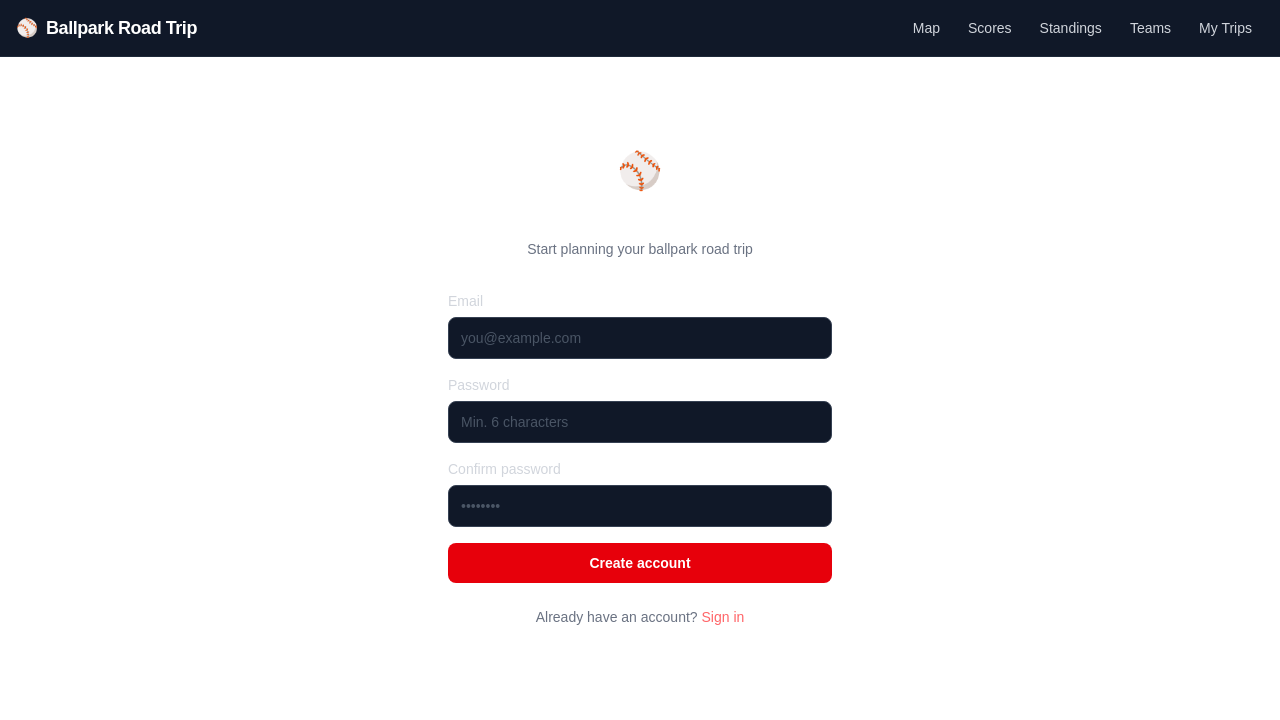
Test: Signup › shows error when passwords do not match
The width and height of the screenshot is (1280, 720).
Type "test@example.com" into the field with test id "signup-email" at x=640, y=338, box [448,317,832,359]
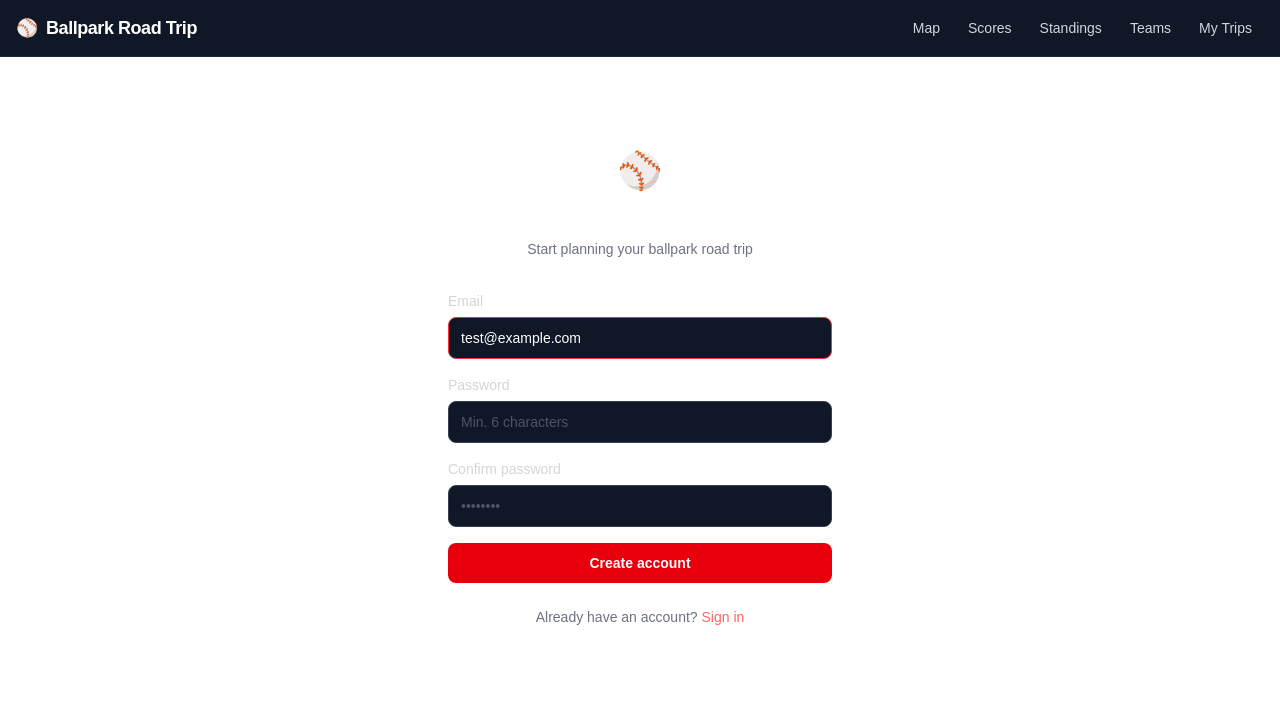
Type "password123" into the password field with test id "signup-password" at x=640, y=422, box [448,401,832,443]
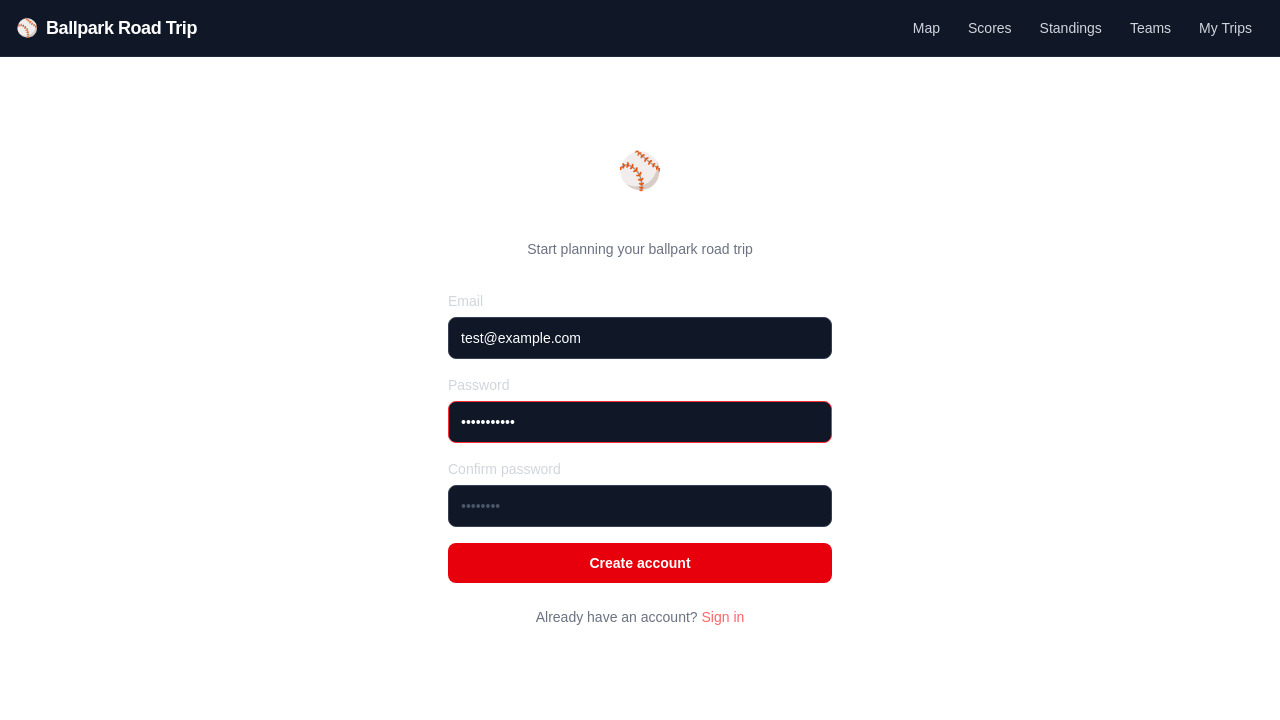
Type "different123" into the password field with test id "signup-confirm" at x=640, y=506, box [448,485,832,527]
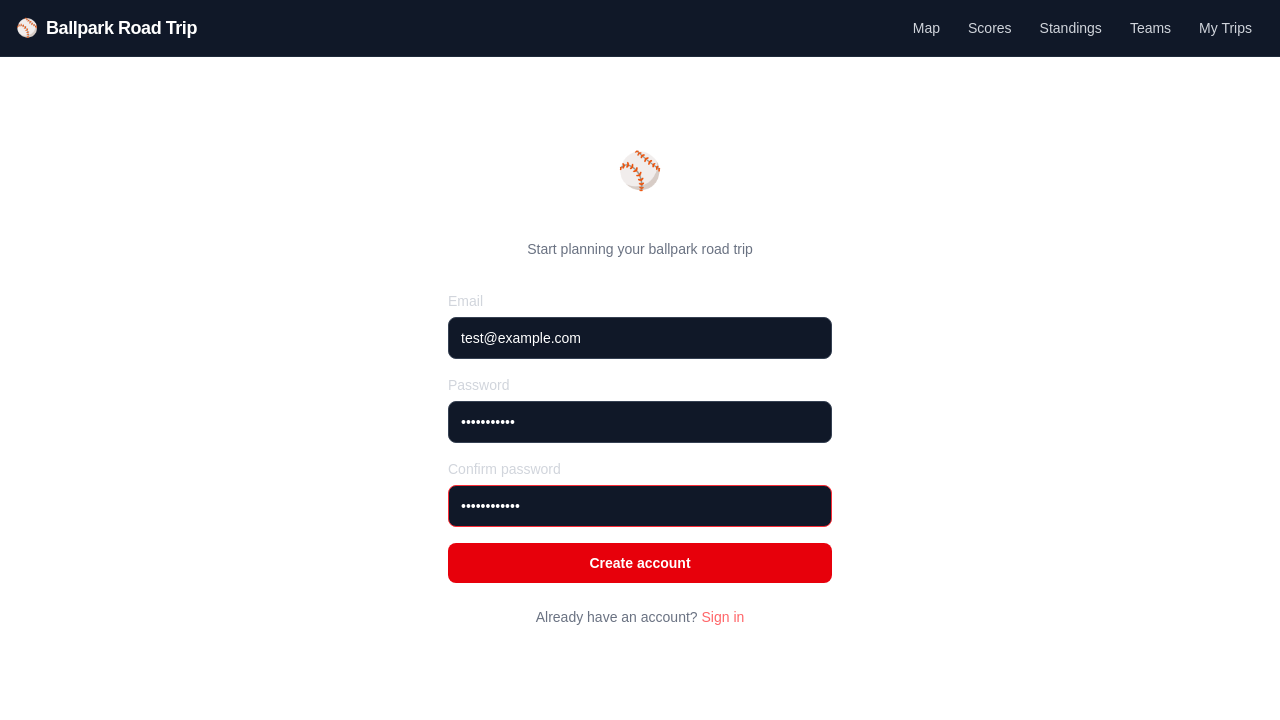
Click the button with test id "signup-submit" at x=640, y=563, box [448,543,832,583]
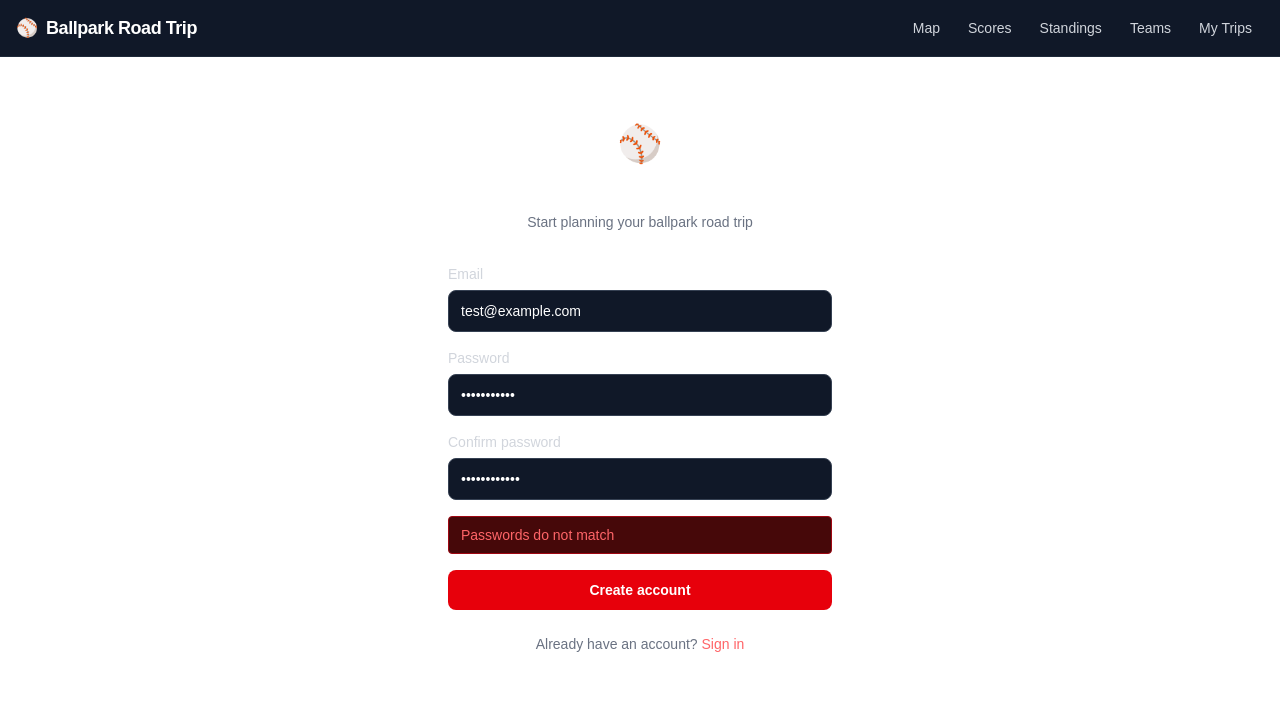
expect the text "Passwords do not match" is shown: met, box [448,516,832,554]
expect the text with test id "signup-error" shows "do not match": met, box [461,527,614,543]
